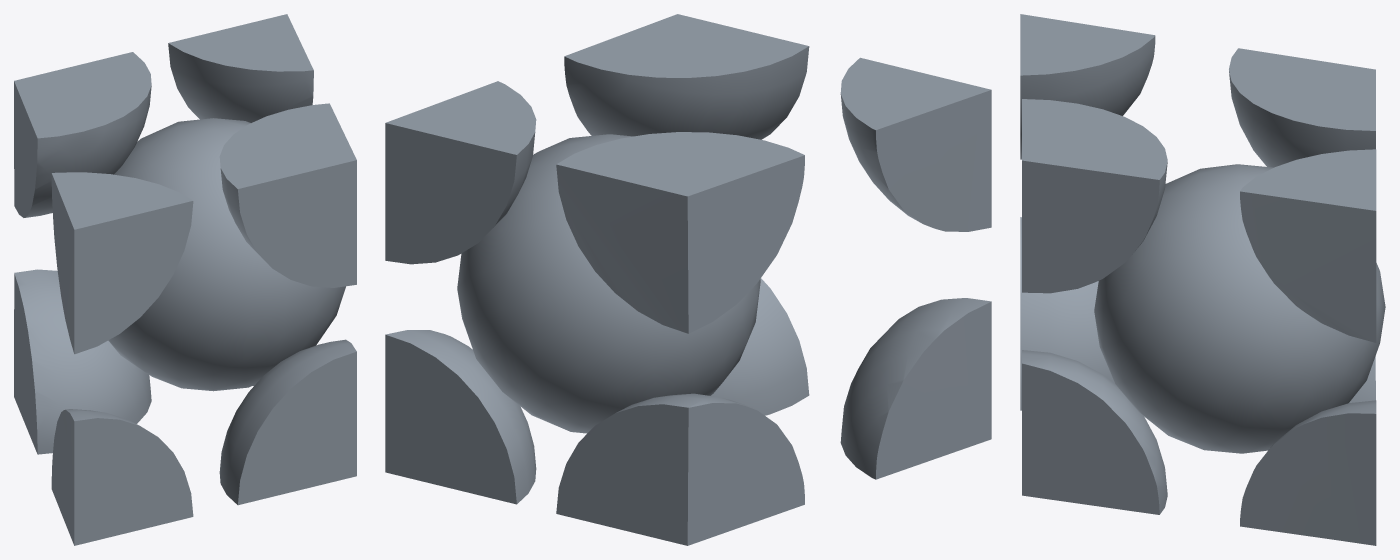
The picture shows the model from 3 angles, left to right: view 1: azimuth 30°, elevation 25°; view 2: azimuth 150°, elevation 25°; view 3: azimuth 270°, elevation 25°; orthographic projection. The views are drawn at different scales.
Visible parts, largest first — view 1: GeoSphere291; view 2: GeoSphere291; view 3: GeoSphere291.
Part boxes in pixels (x1,y1,x2,y2): GeoSphere291: (14,14,356,545); GeoSphere291: (385,14,991,545); GeoSphere291: (1020,14,1385,545).
Bounding box in the file's own units: 63.93 × 50.71 × 50.11.
1 material, 1 textured.
